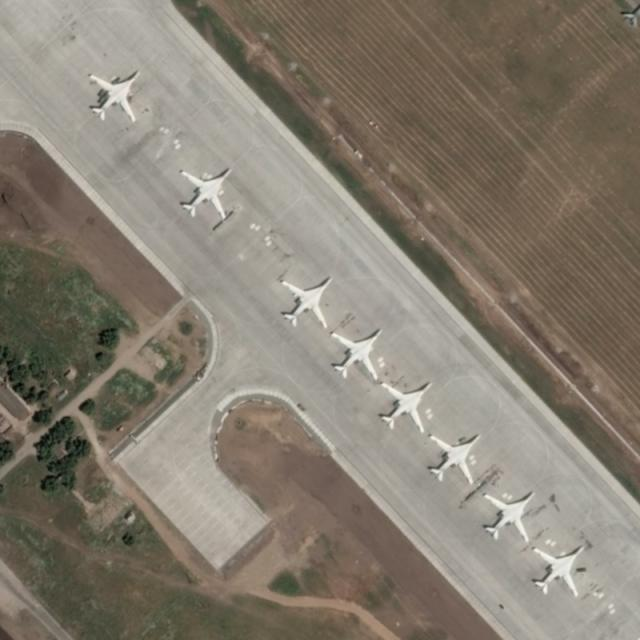fighter jet: (518, 548, 599, 604), (80, 67, 156, 126), (271, 275, 347, 333), (472, 483, 537, 544), (178, 167, 240, 227), (371, 386, 436, 436), (333, 331, 388, 382), (420, 444, 482, 487)
